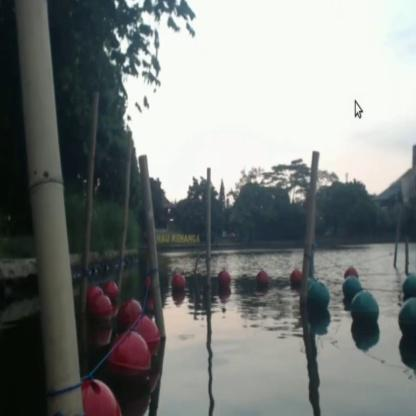green_buoy: (351, 292, 378, 333), (396, 299, 415, 354), (308, 280, 326, 318), (340, 276, 358, 300), (403, 273, 415, 299)
red_buoy: (108, 334, 146, 392), (81, 384, 122, 415), (136, 320, 160, 354), (118, 298, 139, 332), (171, 274, 187, 300), (95, 300, 110, 325), (289, 266, 301, 292), (256, 267, 268, 290), (217, 269, 229, 292), (106, 284, 118, 304), (92, 286, 102, 304)
